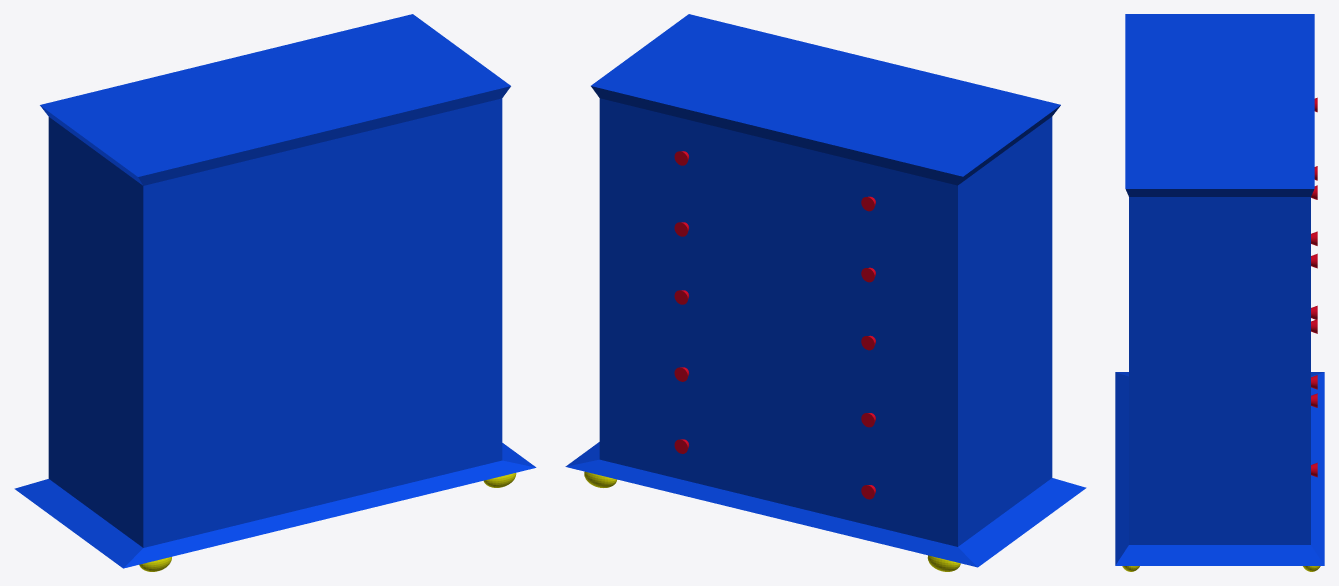
The model's file is Kids_Chest_of_Drawers.fbx.
The picture shows the model from 3 angles, left to right: view 1: azimuth 30°, elevation 25°; view 2: azimuth 150°, elevation 25°; view 3: azimuth 270°, elevation 25°; orthographic projection. The views are drawn at different scales.
Parts seen in each view (by area): view 1: Kids-Chest-of-Drawers; view 2: Kids-Chest-of-Drawers; view 3: Kids-Chest-of-Drawers.
Part boxes in pixels (x1,y1,x2,y2): Kids-Chest-of-Drawers: (14, 14, 536, 571); Kids-Chest-of-Drawers: (565, 14, 1086, 571); Kids-Chest-of-Drawers: (1115, 14, 1324, 571).
Size of the model in its own units: 813 by 753 by 371.
